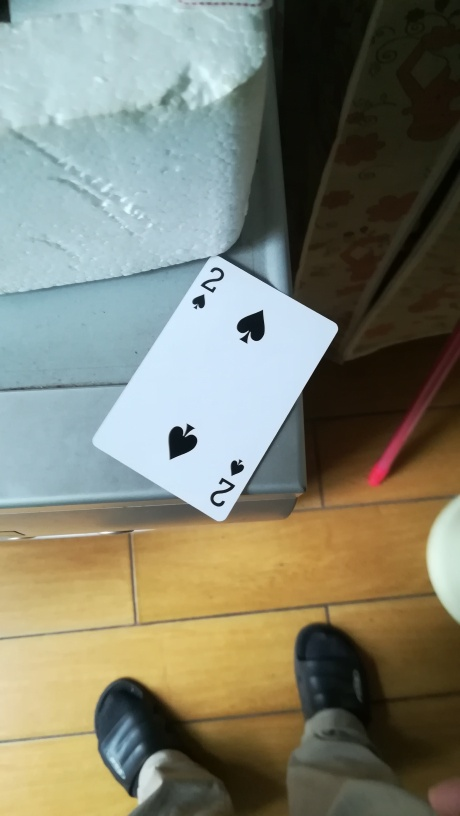ht 2: (92, 238, 340, 522)
